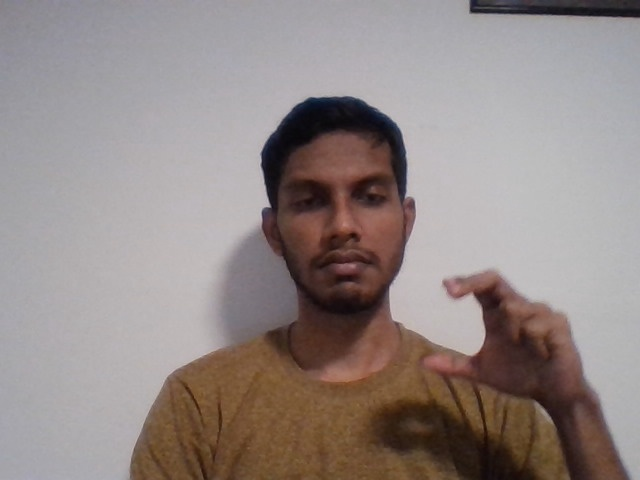no: (413, 264, 611, 419)
